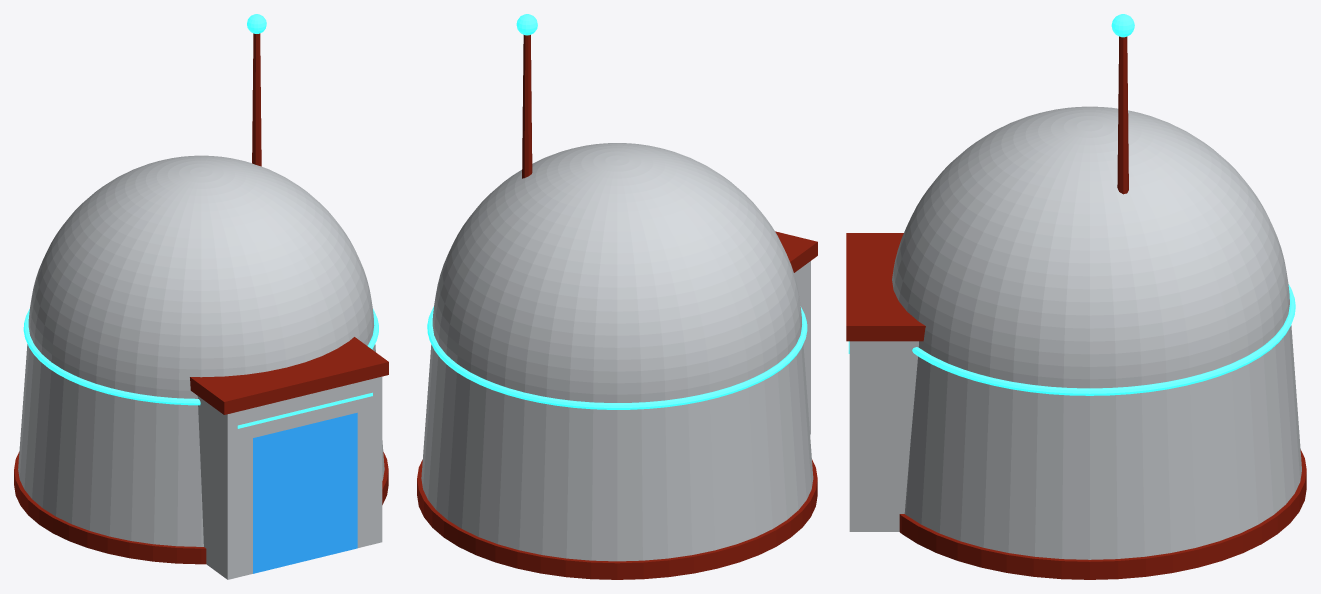
File: observatory.glb
The picture shows the model from 3 angles, left to right: view 1: azimuth 30°, elevation 25°; view 2: azimuth 150°, elevation 25°; view 3: azimuth 270°, elevation 25°; orthographic projection. The views are drawn at different scales.
Parts seen in each view (by area): view 1: Observatory; view 2: Observatory; view 3: Observatory.
Boxes of the visible parts, x1,y1,x2,y2 form: Observatory: (14, 14, 388, 579); Observatory: (417, 14, 817, 579); Observatory: (846, 14, 1306, 579).
Bounding box in the file's own units: 13 × 16.95 × 13.8.
